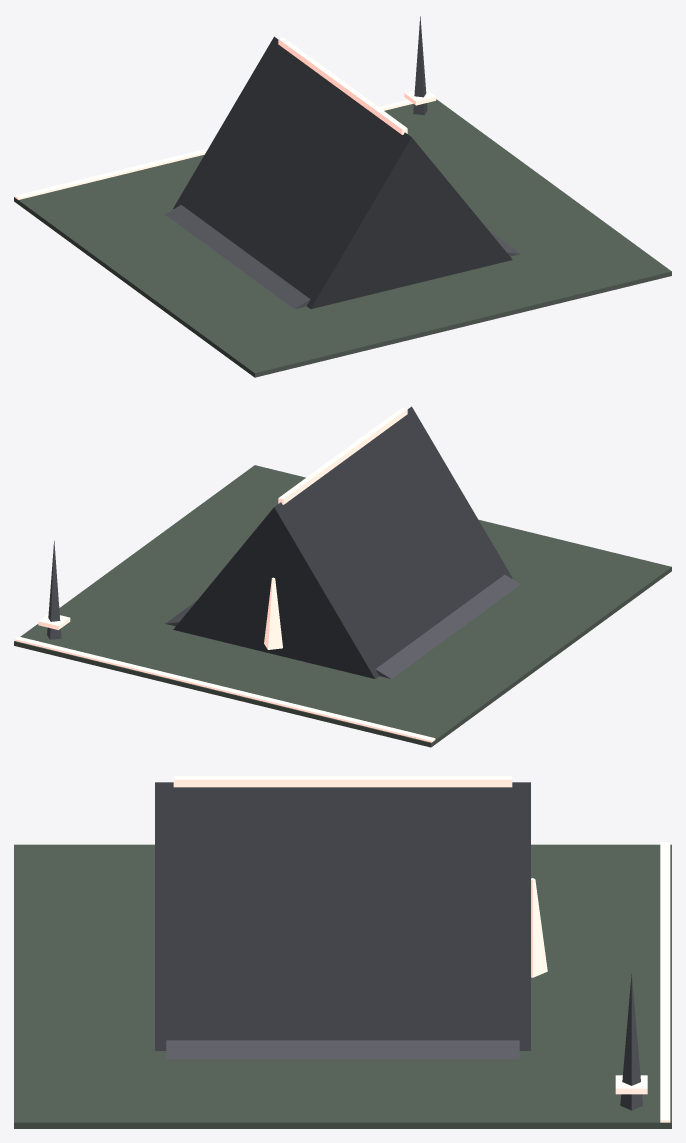
Rendered from zone_low_3_t1.glb.
3 views of the same model, one above another, from view 1: azimuth 30°, elevation 25°; view 2: azimuth 150°, elevation 25°; view 3: azimuth 270°, elevation 25° (orthographic). The views are drawn at different scales.
Parts seen in each view (by area): view 1: zone_low_3_t1, detail; view 2: zone_low_3_t1, detail; view 3: zone_low_3_t1, detail.
Part boxes in pixels (x1,y1,x2,y2): zone_low_3_t1: [14, 36, 671, 377]; detail: [14, 16, 436, 199]; zone_low_3_t1: [14, 406, 671, 747]; detail: [14, 540, 435, 742]; zone_low_3_t1: [14, 776, 671, 1128]; detail: [615, 842, 670, 1122].
Bounding box in the file's own units: 19.6 × 6.97 × 19.6.
